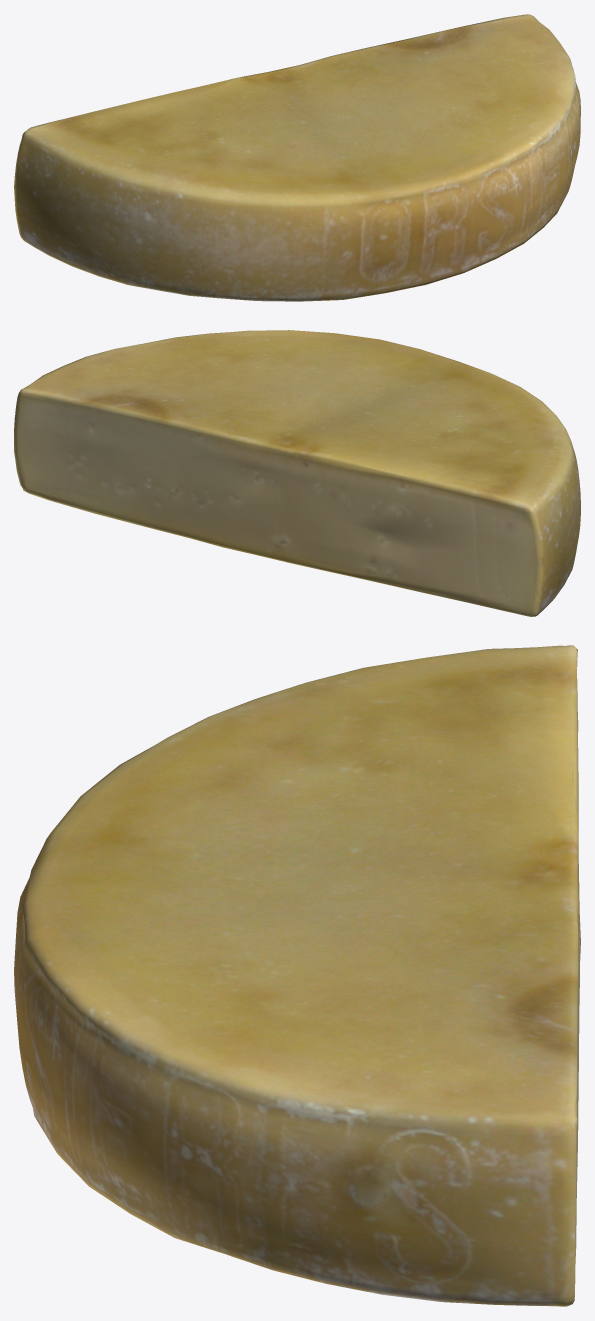
The model's file is cheese_half.glb.
The picture shows the model from 3 angles, top to bottom: view 1: azimuth 30°, elevation 25°; view 2: azimuth 150°, elevation 25°; view 3: azimuth 270°, elevation 25°; orthographic projection. The views are drawn at different scales.
Parts seen in each view (by area): view 1: Half Cheese Wheel_Cheese Wheel LP_0; view 2: Half Cheese Wheel_Cheese Wheel LP_0; view 3: Half Cheese Wheel_Cheese Wheel LP_0.
Part boxes in pixels (x1,y1,x2,y2): Half Cheese Wheel_Cheese Wheel LP_0: (14,14,580,301); Half Cheese Wheel_Cheese Wheel LP_0: (14,330,580,616); Half Cheese Wheel_Cheese Wheel LP_0: (14,645,580,1306).
Size of the model in its own units: 24.95 by 5.38 by 12.47.
1 material, 1 textured.
